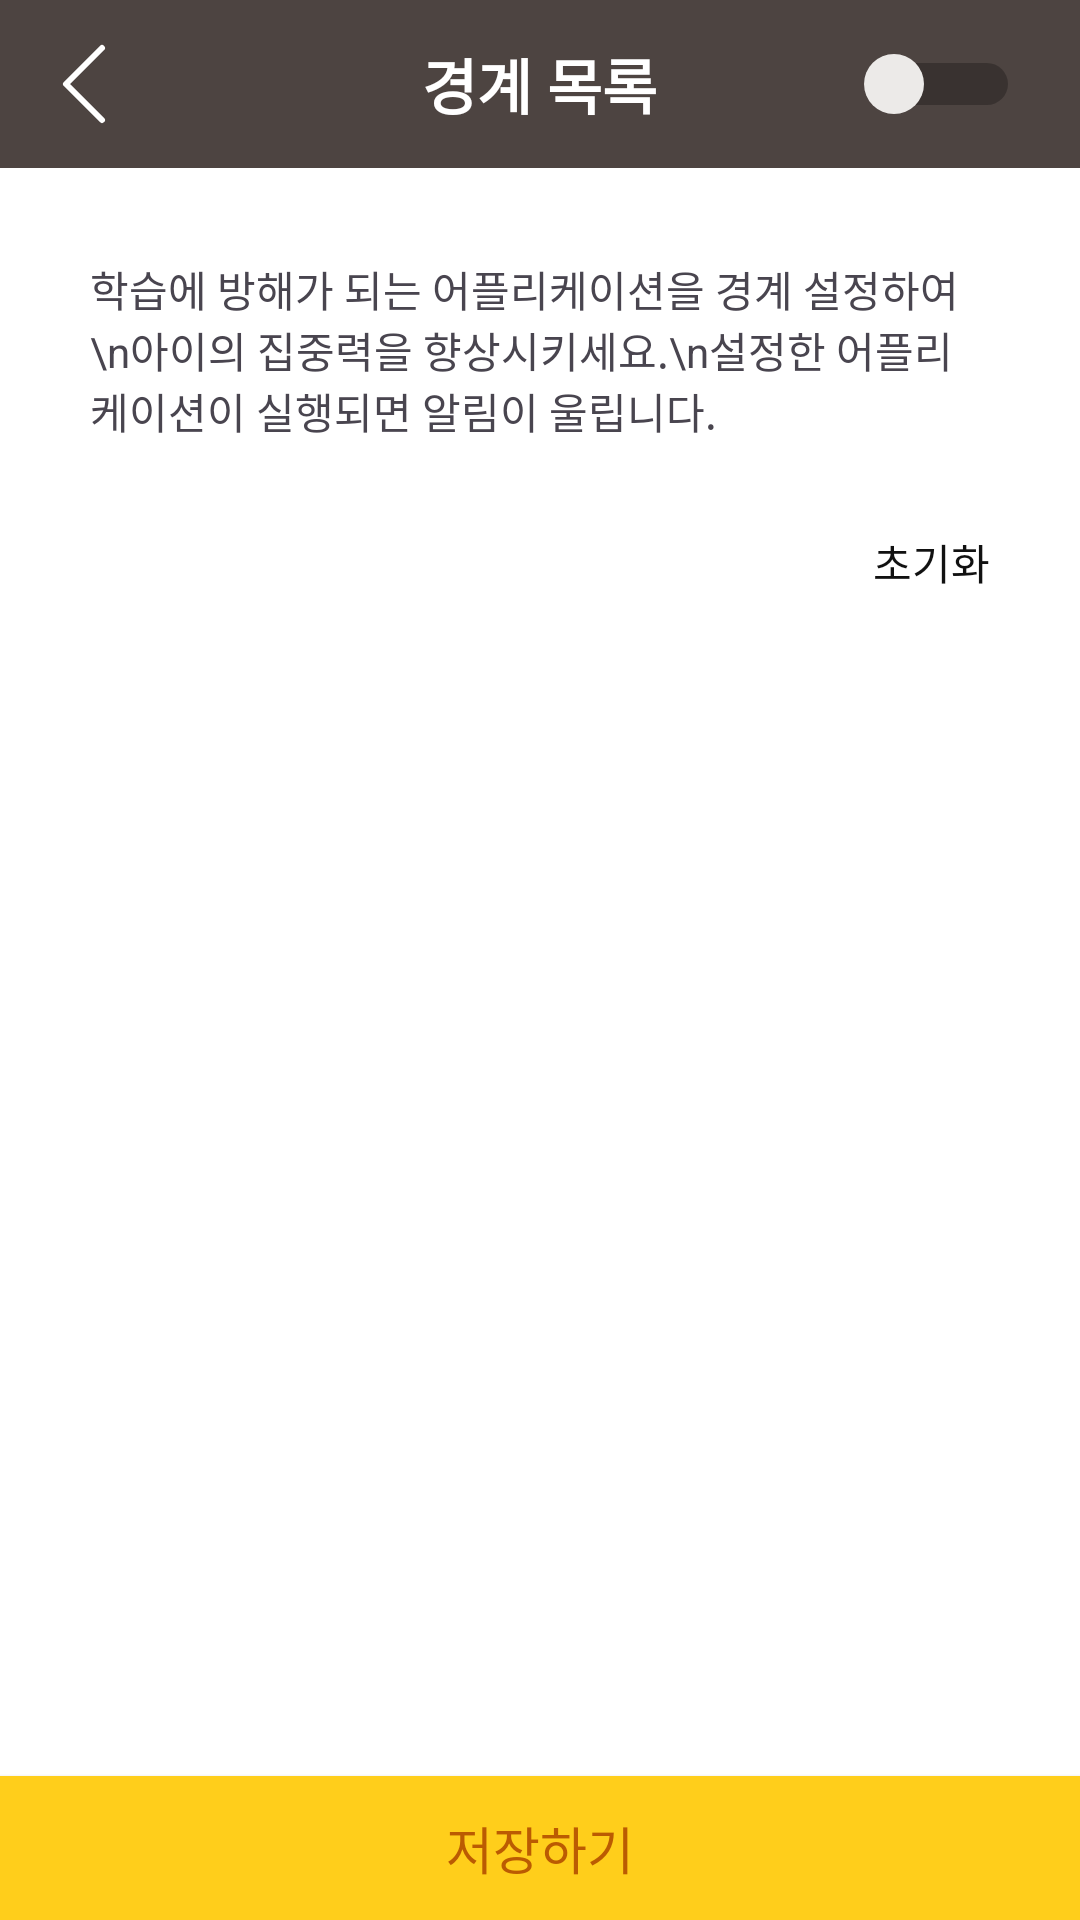

Named icons in this screenshot (1080 x 1920) and their centers, [x,y]:
back: [84,83]
